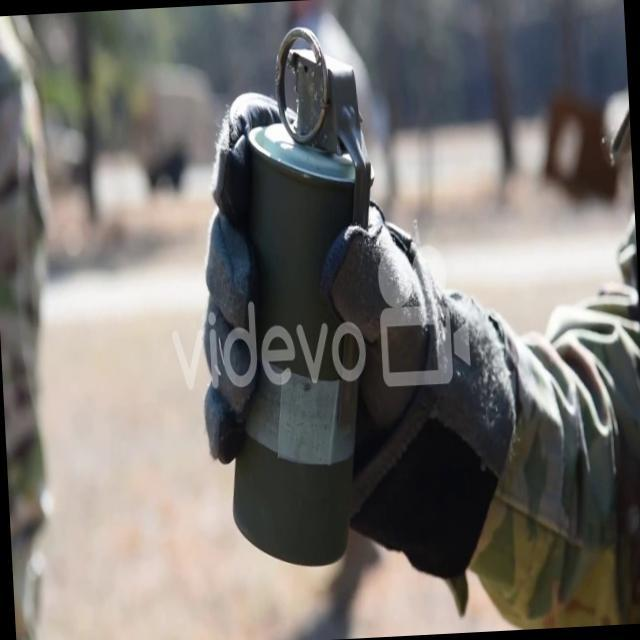grenade: (201, 18, 405, 588)
